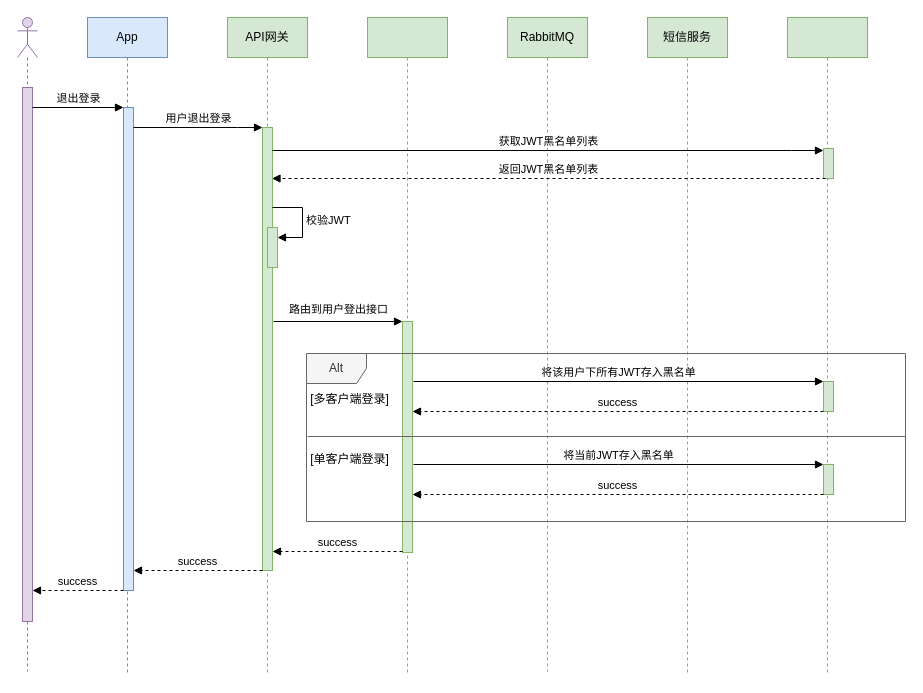
This 923x693 diagram has some shape labels left out. The box of each missing label's shape, as (x1, y1, x2, y2) in pixels:
Redis: (786, 16, 868, 674)
用户服务: (366, 16, 448, 676)
